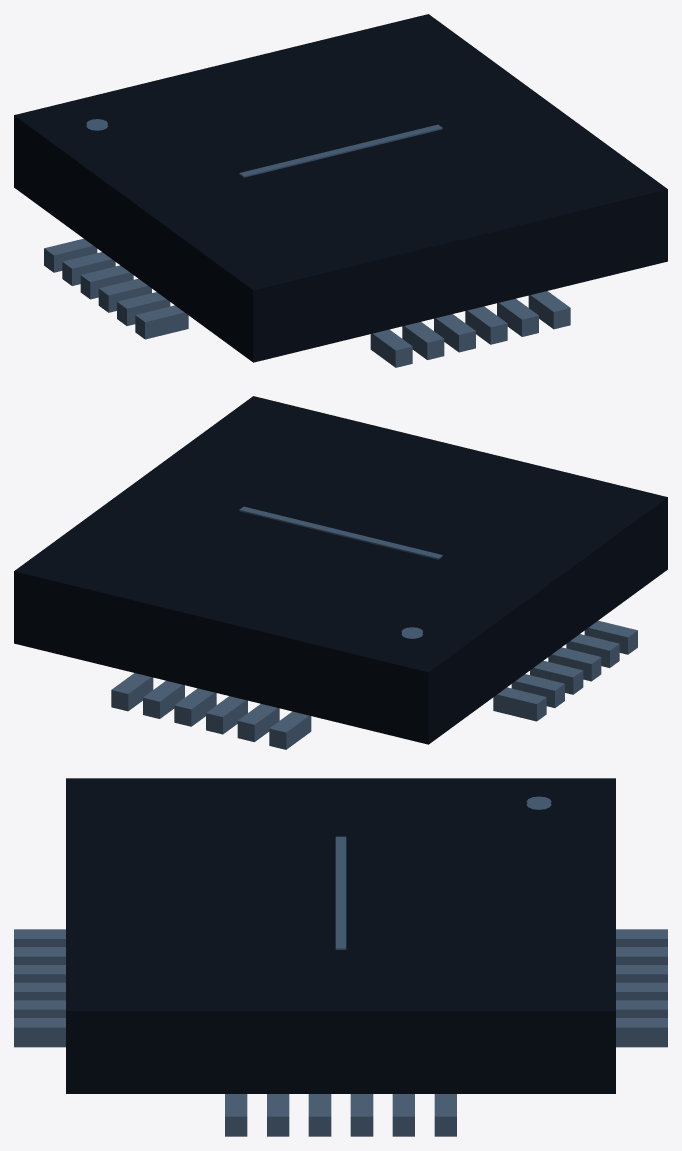
The picture shows the model from 3 angles, top to bottom: view 1: azimuth 30°, elevation 25°; view 2: azimuth 150°, elevation 25°; view 3: azimuth 270°, elevation 25°; orthographic projection. The views are drawn at different scales.
Parts seen in each view (by area): view 1: 005_L103_U5; view 2: 005_L103_U5; view 3: 005_L103_U5.
Part boxes in pixels (x1=…): 005_L103_U5: x1=14, y1=14, x2=667, y2=367; 005_L103_U5: x1=14, y1=396, x2=667, y2=749; 005_L103_U5: x1=14, y1=778, x2=667, y2=1136.
Size of the model in its own units: 1.25 by 0.228 by 1.25.
